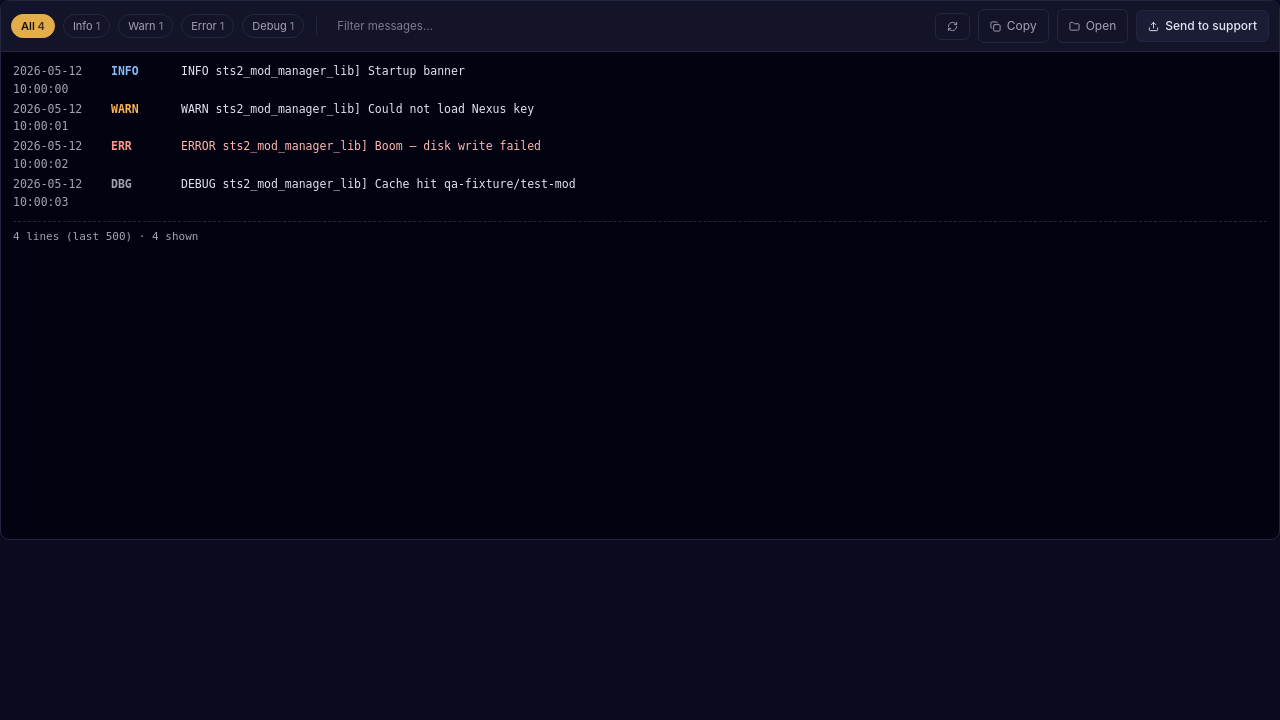
Test case: <LogsViewer> › Copy button shows toast.error when clipboard rejects
Expected: the text "INFO sts2_mod_manager_lib] Startup banner" is shown, left=181, top=64, right=465, bottom=78
Click the button "Copy": (1013, 26) left=978, top=9, right=1049, bottom=43
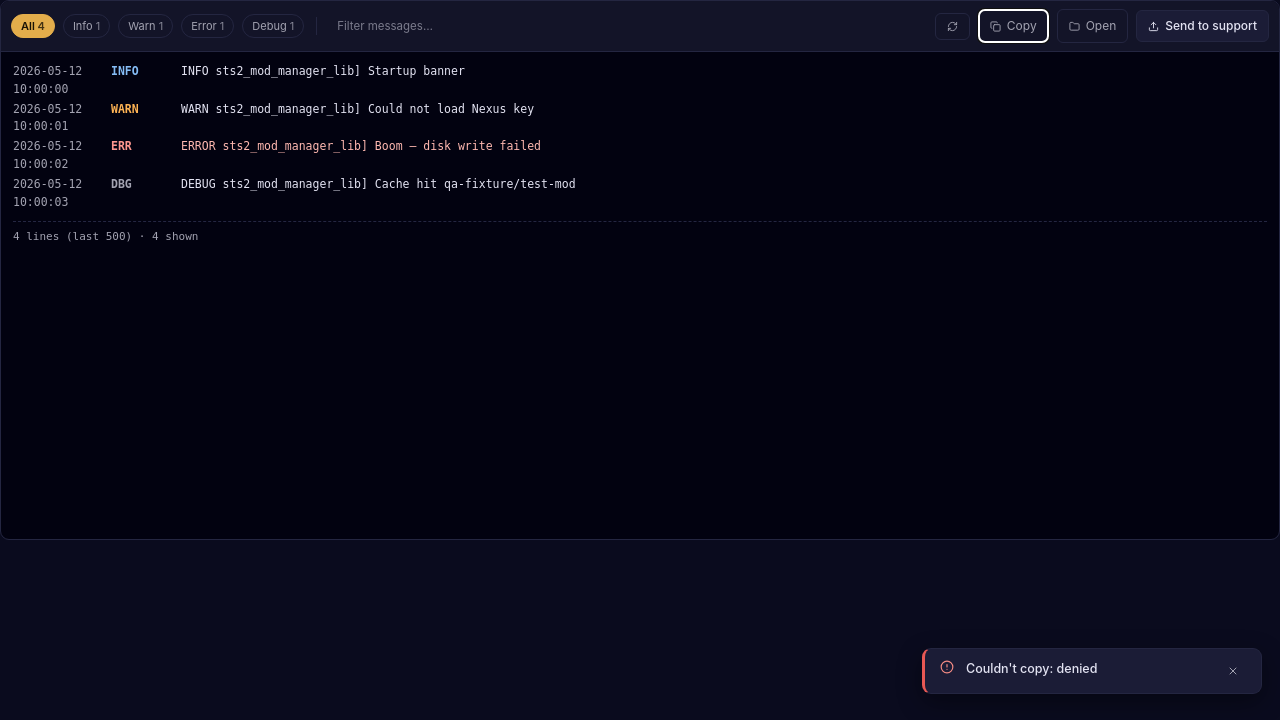
Expected: the text "Couldn't copy: denied" is shown, left=966, top=661, right=1097, bottom=676
